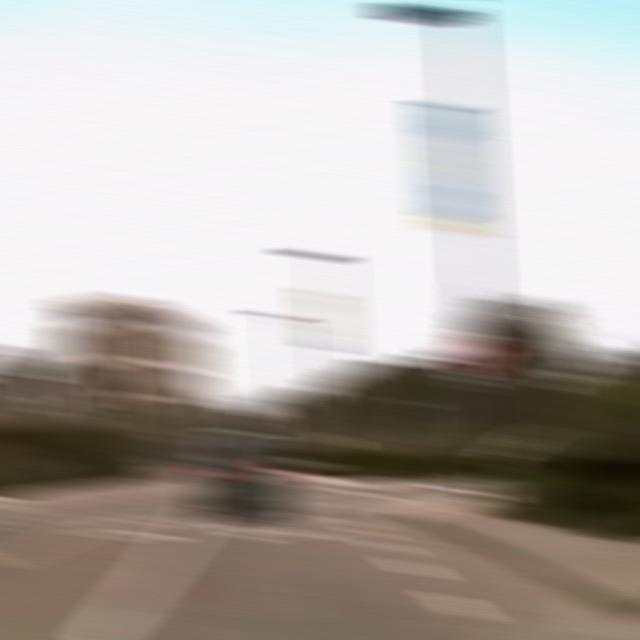stop_sign: (454, 331, 509, 378)
